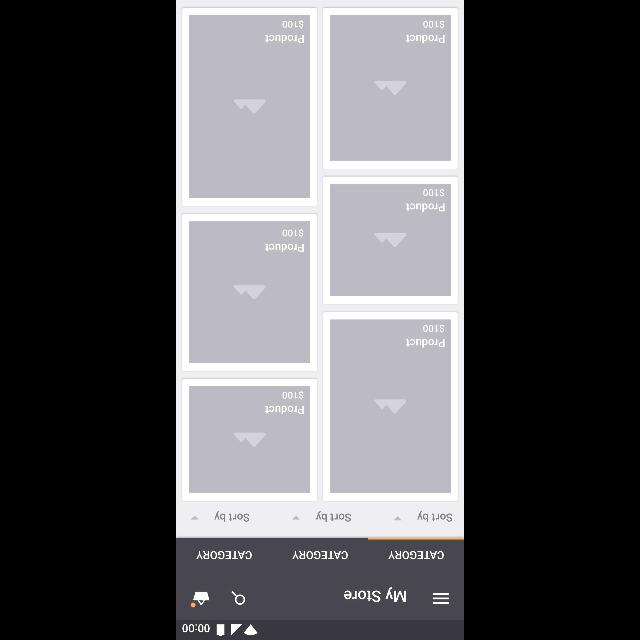icon: (190, 591, 210, 607), (432, 592, 450, 604), (231, 590, 245, 604), (191, 514, 199, 520), (292, 516, 300, 520), (394, 516, 401, 520)
image: (190, 14, 310, 198), (330, 319, 450, 493), (330, 15, 450, 161), (188, 221, 310, 363), (330, 184, 450, 296), (188, 386, 310, 492)
multitab: (176, 538, 464, 582)
panel: (182, 8, 318, 206), (322, 313, 458, 502), (322, 8, 458, 168), (182, 215, 316, 372), (323, 176, 457, 304), (182, 378, 316, 502)
text: (344, 586, 406, 602), (195, 550, 252, 560), (387, 550, 443, 560), (292, 551, 348, 559), (405, 338, 445, 348), (264, 34, 304, 44), (266, 242, 304, 252), (406, 202, 444, 212), (406, 34, 444, 44), (214, 511, 250, 521), (316, 511, 352, 521), (418, 512, 452, 522), (264, 406, 304, 414), (282, 390, 304, 400), (422, 324, 444, 334), (282, 229, 304, 237), (282, 20, 304, 28), (422, 20, 443, 28), (424, 189, 444, 197)
toolbar: (176, 582, 464, 620)
uppertaskbar: (176, 620, 464, 640)
